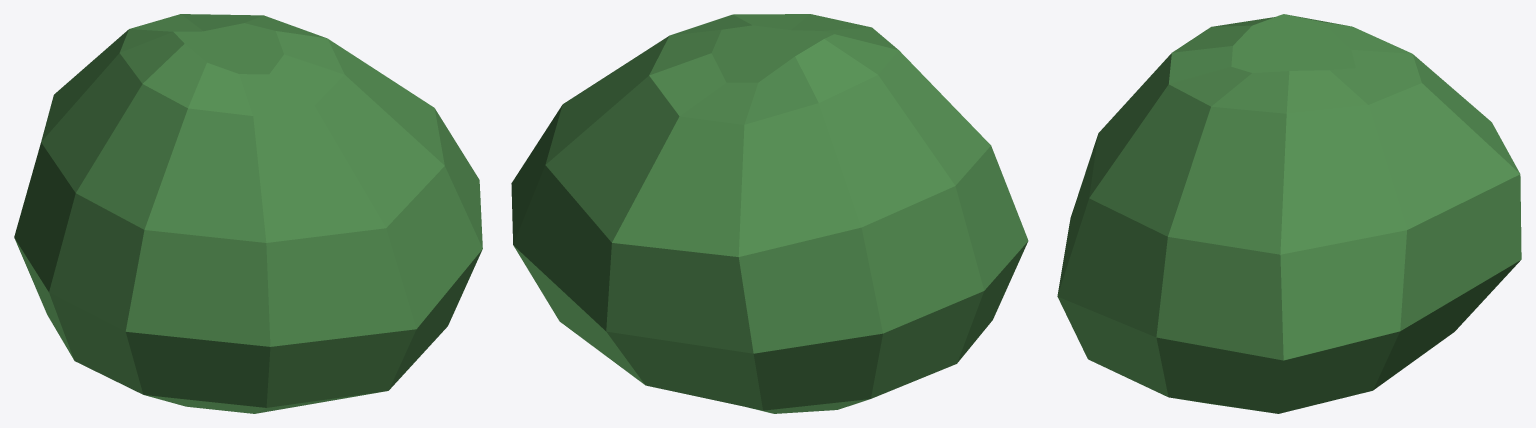
The model's file is Bushes2.fbx.
3 views of the same model, side by side, from view 1: azimuth 30°, elevation 25°; view 2: azimuth 150°, elevation 25°; view 3: azimuth 270°, elevation 25° (orthographic). The views are drawn at different scales.
Parts seen in each view (by area): view 1: pSphere4; view 2: pSphere4; view 3: pSphere4.
Boxes of the visible parts, x1,y1,x2,y2 form: pSphere4: [14, 14, 482, 413]; pSphere4: [511, 14, 1028, 413]; pSphere4: [1057, 14, 1521, 413].
Bounding box in the file's own units: 8.76 × 6.44 × 8.16.
